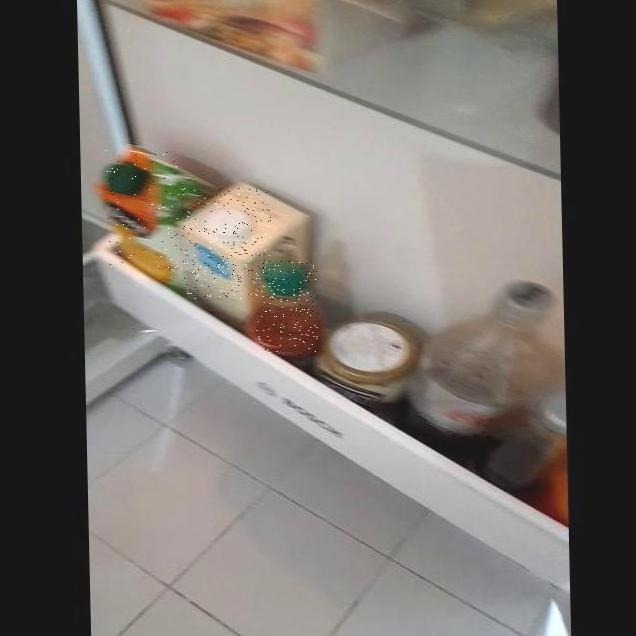juice: (105, 150, 182, 271)
milk: (181, 188, 273, 300)
sauce: (255, 261, 319, 353)
